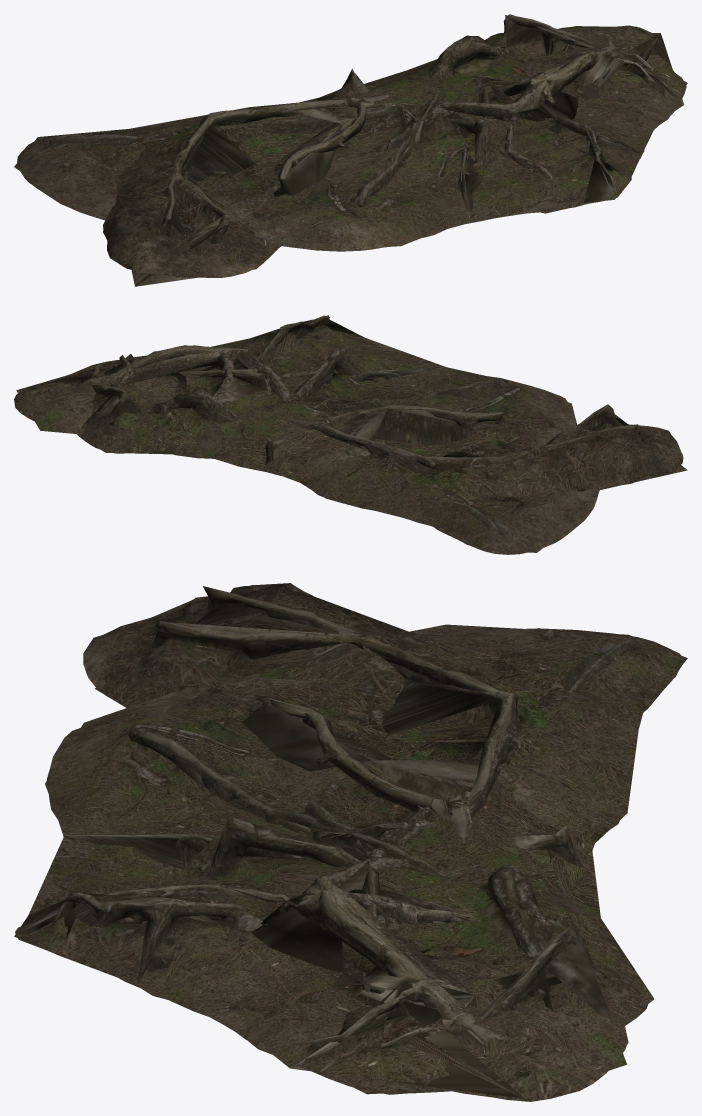
The model's file is pine_roots.glb.
3 renders of one model, top to bottom at view 1: azimuth 30°, elevation 25°; view 2: azimuth 150°, elevation 25°; view 3: azimuth 270°, elevation 25°, orthographic. The views are drawn at different scales.
Size of the model in its own units: 1.75 by 0.1676 by 1.
2 materials, 2 textured.
